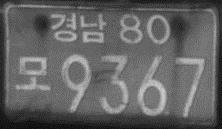0: (147, 13, 171, 45)
3: (97, 54, 130, 115)
6: (135, 55, 168, 117)
7: (173, 56, 206, 120)
8: (119, 12, 144, 44)
9: (60, 53, 94, 114)
경남_O: (49, 12, 108, 45)
모: (14, 54, 52, 93)
